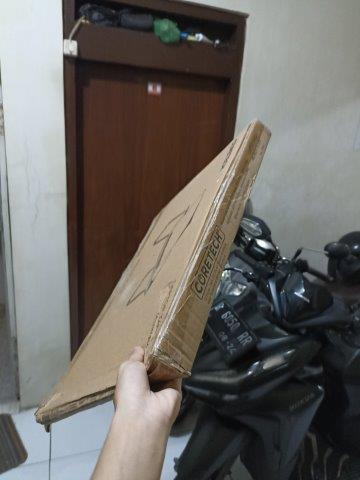kardus: (35, 122, 269, 424)
